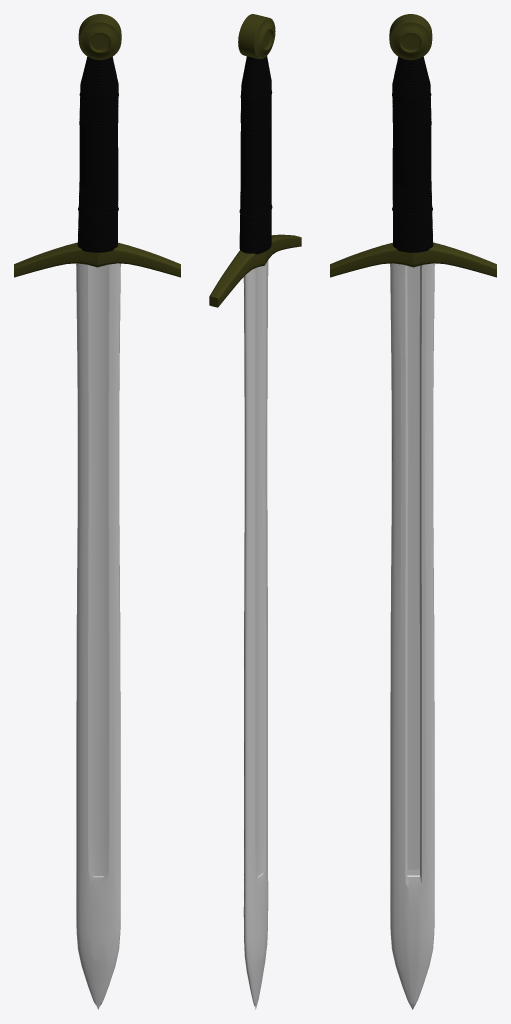
The model's file is sword-2.fbx.
The picture shows the model from 3 angles, left to right: view 1: azimuth 90°, elevation 25°; view 2: azimuth 150°, elevation 25°; view 3: azimuth 270°, elevation 25°; orthographic projection.
Visible parts, largest first — view 1: Cylinder.001, Cylinder, Cube.001, Cylinder.002; view 2: Cylinder.001, Cylinder, Cube.001, Cylinder.002; view 3: Cylinder.001, Cylinder, Cube.001, Cylinder.002.
Part boxes in pixels (<box>): Cylinder.001: <box>76,263,120,1009</box>; Cylinder: <box>77,56,118,252</box>; Cube.001: <box>14,242,180,277</box>; Cylinder.002: <box>78,14,121,60</box>; Cylinder.001: <box>243,260,268,1009</box>; Cylinder: <box>239,56,272,254</box>; Cube.001: <box>209,234,301,307</box>; Cylinder.002: <box>238,14,275,59</box>; Cylinder.001: <box>390,263,434,1009</box>; Cylinder: <box>392,56,433,252</box>; Cube.001: <box>330,242,496,277</box>; Cylinder.002: <box>389,14,432,60</box>.
Bounding box in the file's own units: 3.35 × 124 × 18.94.
